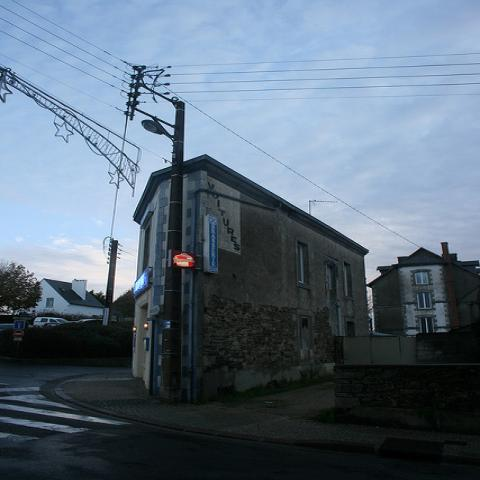car: (33, 317, 70, 327), (76, 318, 117, 322)
